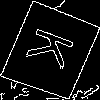K: (25, 26, 84, 74)
